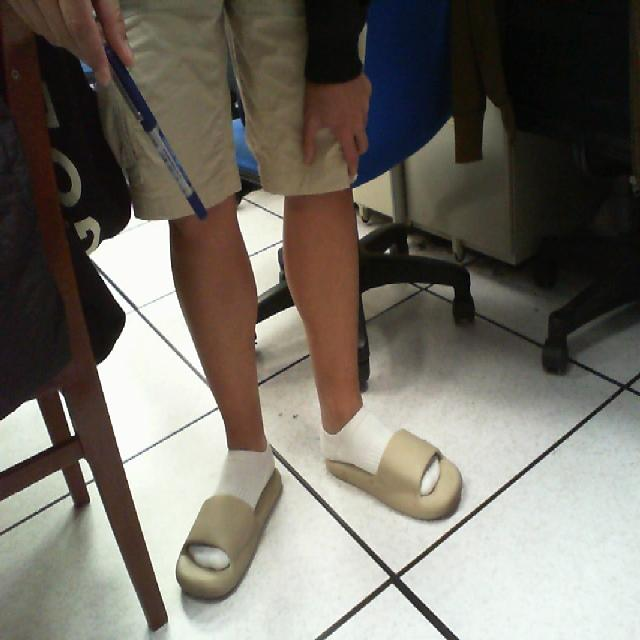Pen: (93, 20, 212, 251)
